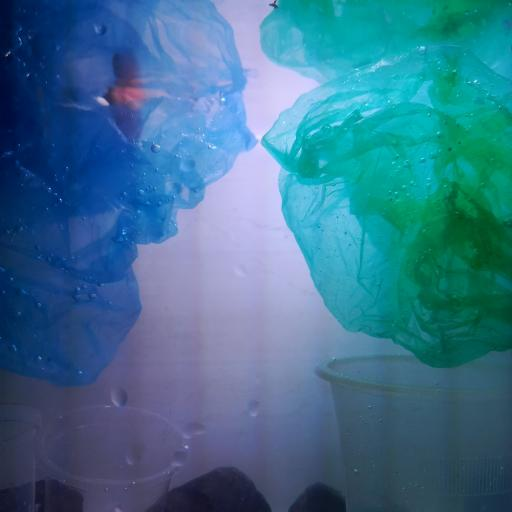plastic_bag: (1, 1, 258, 390), (258, 0, 512, 369)
plastic_cup: (313, 352, 511, 512), (34, 404, 192, 509), (0, 402, 43, 512)
